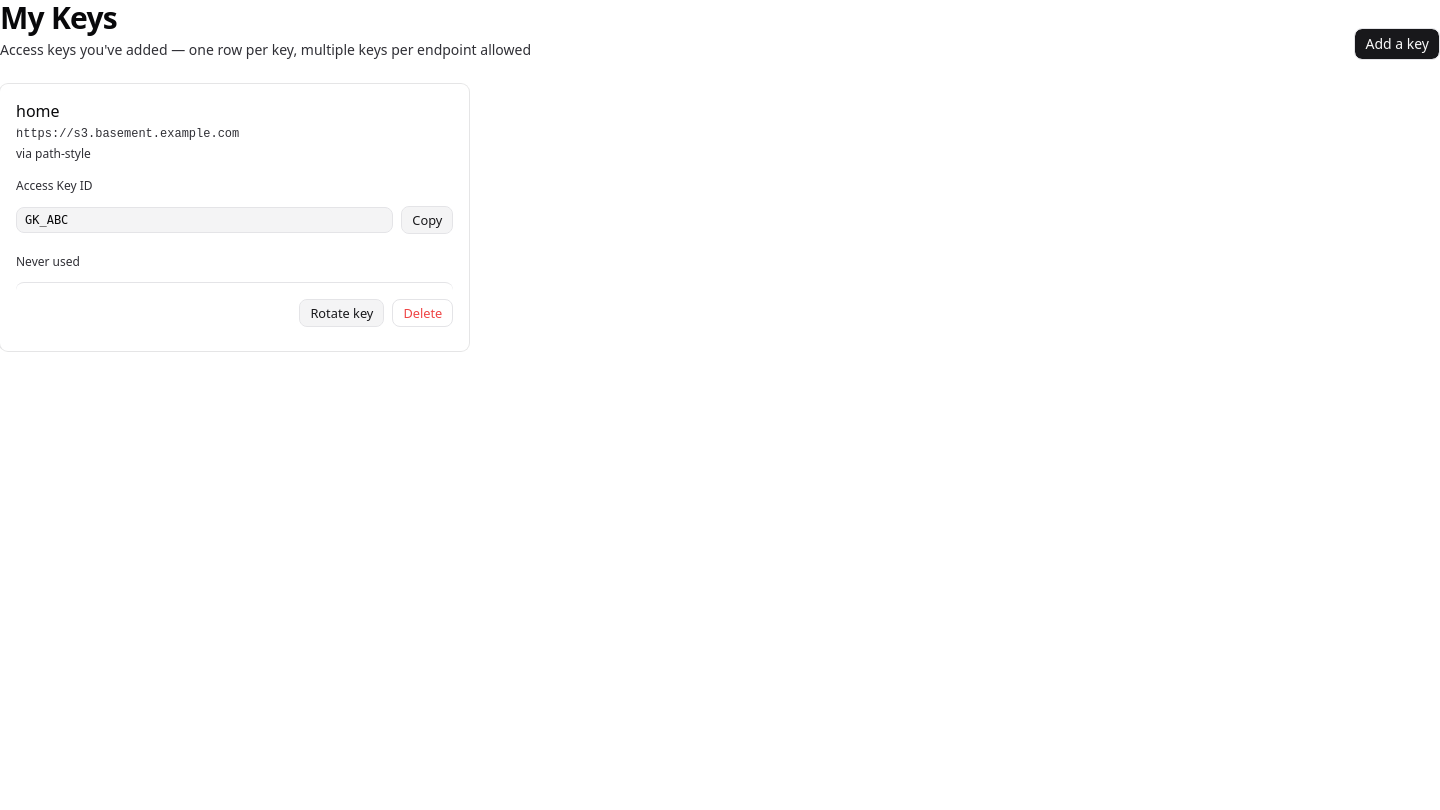
Test: KeysIndex (My Keys) › opens the delete confirmation when Delete is clicked
Click the button with test id "delete-region-key-button": (423, 313) [392,299,453,327]
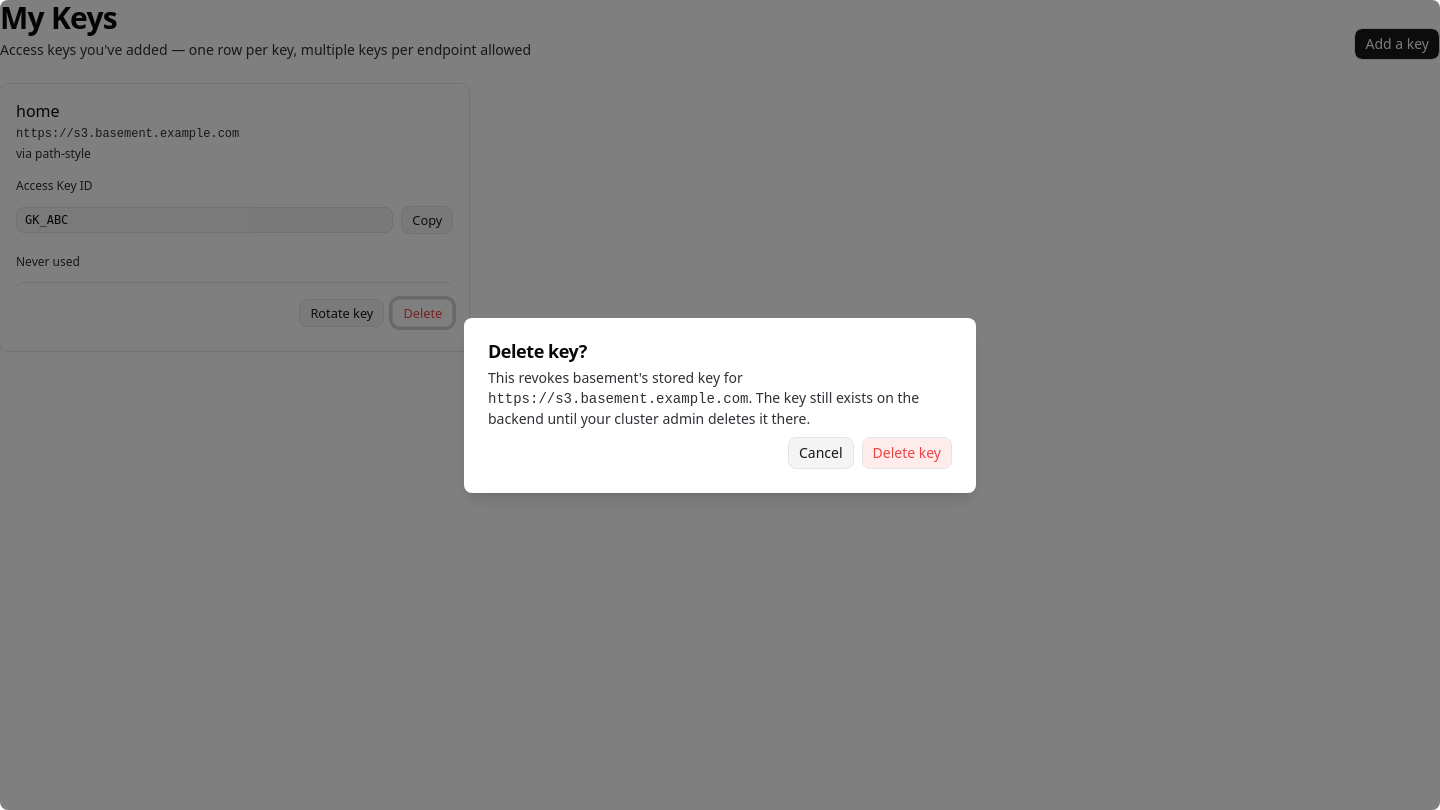
Expected: the heading "Delete key?" is shown, [488,338,587,362]
